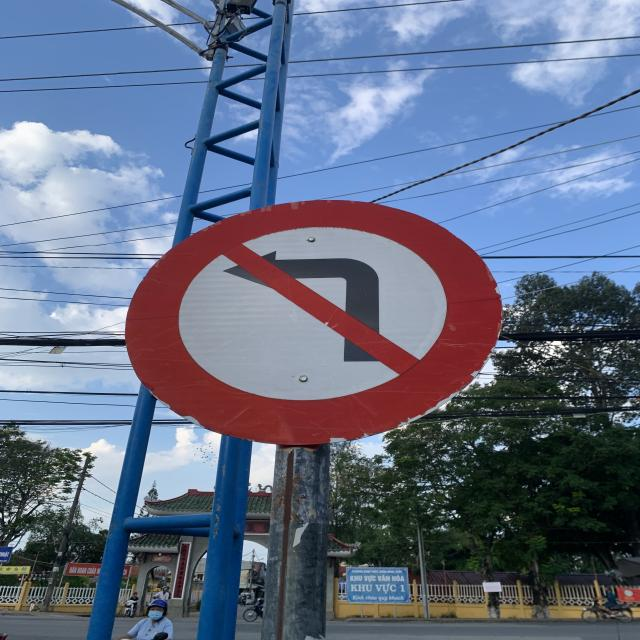Cam_Re_Trai: (123, 198, 505, 446)
